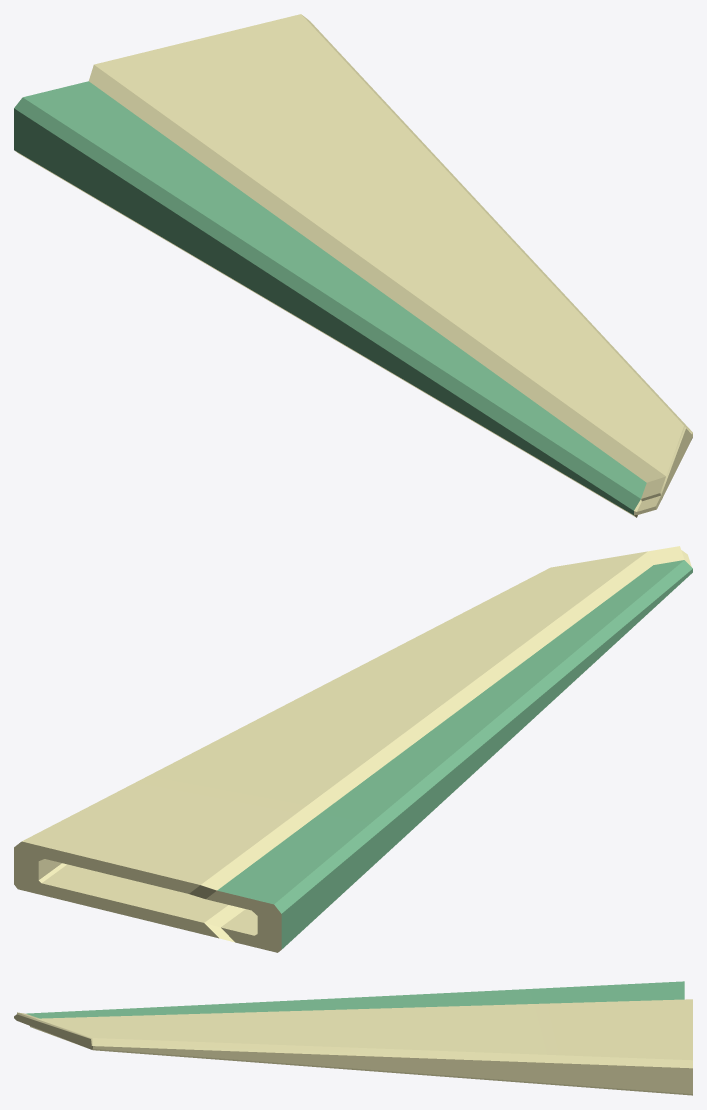
Rendered from wing_3.fbx.
3 renders of one model, top to bottom at view 1: azimuth 30°, elevation 25°; view 2: azimuth 150°, elevation 25°; view 3: azimuth 270°, elevation 25°, orthographic. The views are drawn at different scales.
Visible parts, largest first — view 1: Wing; view 2: Wing; view 3: Wing.
Part boxes in pixels (<box>): Wing: <box>14,14,692,517</box>; Wing: <box>14,546,692,952</box>; Wing: <box>14,981,692,1095</box>.
Bounding box in the file's own units: 21.56 × 5.88 × 69.43.
